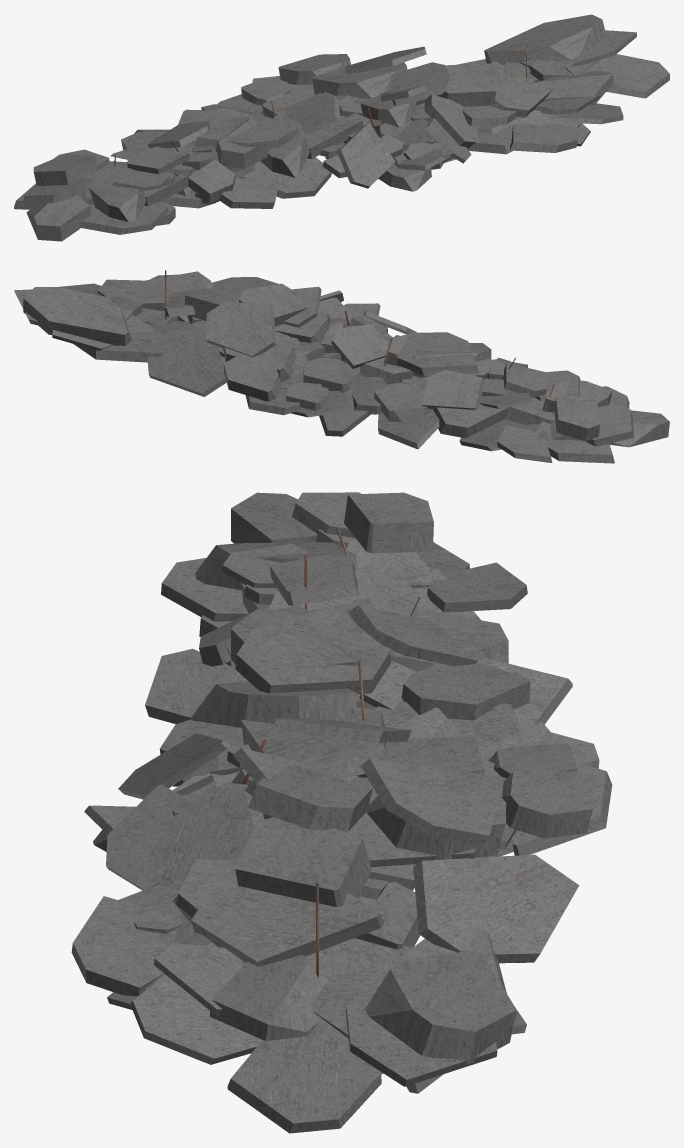
The model's file is runtuhan 1.fbx.
3 renders of one model, top to bottom at view 1: azimuth 30°, elevation 25°; view 2: azimuth 150°, elevation 25°; view 3: azimuth 270°, elevation 25°, orthographic. The views are drawn at different scales.
Parts seen in each view (by area): view 1: Cube.123, Cube.124, Cube.066, Cube.104, Cube.128, Cube.091, Cube.117, Cube.130, Cube.096, Cube.074, Cube.097, Cube.094 (+41 smaller); view 2: Cube.123, Cube.116, Cube.118, Cube.104, Cube.133, Cube.139, Cube.075, Cube.148, Cube.132, Cube.136, Cube.115, Cube.089 (+41 smaller); view 3: Cube.116, Cube.123, Cube.124, Cube.096, Cube.104, Cube.091, Cube.118, Cube.097, Cube.089, Cube.064, Cube.083, Cube.094 (+43 smaller).
Part boxes in pixels (x1=…): Cube.123: x1=484, y1=14, x2=606, y2=65; Cube.124: x1=565, y1=54, x2=669, y2=98; Cube.066: x1=337, y1=123, x2=395, y2=188; Cube.104: x1=194, y1=115, x2=298, y2=150; Cube.128: x1=88, y1=163, x2=146, y2=222; Cube.091: x1=437, y1=63, x2=497, y2=106; Cube.117: x1=312, y1=62, x2=407, y2=98; Cube.130: x1=26, y1=195, x2=91, y2=241; Cube.096: x1=490, y1=61, x2=550, y2=117; Cube.074: x1=239, y1=157, x2=331, y2=198; Cube.097: x1=510, y1=124, x2=579, y2=152; Cube.094: x1=390, y1=62, x2=449, y2=105; Cube.123: x1=23, y1=287, x2=131, y2=345; Cube.116: x1=146, y1=333, x2=226, y2=396; Cube.118: x1=206, y1=302, x2=276, y2=357; Cube.104: x1=396, y1=332, x2=479, y2=376; Cube.133: x1=421, y1=369, x2=484, y2=409; Cube.139: x1=223, y1=356, x2=281, y2=401; Cube.075: x1=331, y1=324, x2=388, y2=368; Cube.148: x1=554, y1=396, x2=599, y2=441; Cube.132: x1=433, y1=396, x2=508, y2=438; Cube.136: x1=374, y1=383, x2=432, y2=422; Cube.115: x1=303, y1=357, x2=361, y2=393; Cube.089: x1=97, y1=279, x2=173, y2=311; Cube.116: x1=413, y1=854, x2=579, y2=963; Cube.123: x1=365, y1=951, x2=516, y2=1063; Cube.124: x1=227, y1=1000, x2=381, y2=1133; Cube.096: x1=191, y1=886, x2=384, y2=966; Cube.104: x1=235, y1=606, x2=390, y2=694; Cube.091: x1=235, y1=817, x2=371, y2=907; Cube.118: x1=361, y1=758, x2=496, y2=845; Cube.097: x1=71, y1=896, x2=181, y2=996; Cube.089: x1=210, y1=955, x2=323, y2=1040; Cube.064: x1=145, y1=785, x2=263, y2=889; Cube.083: x1=130, y1=974, x2=262, y2=1064; Cube.094: x1=248, y1=764, x2=372, y2=831.
Size of the model in its own units: 1688 by 190 by 635.
